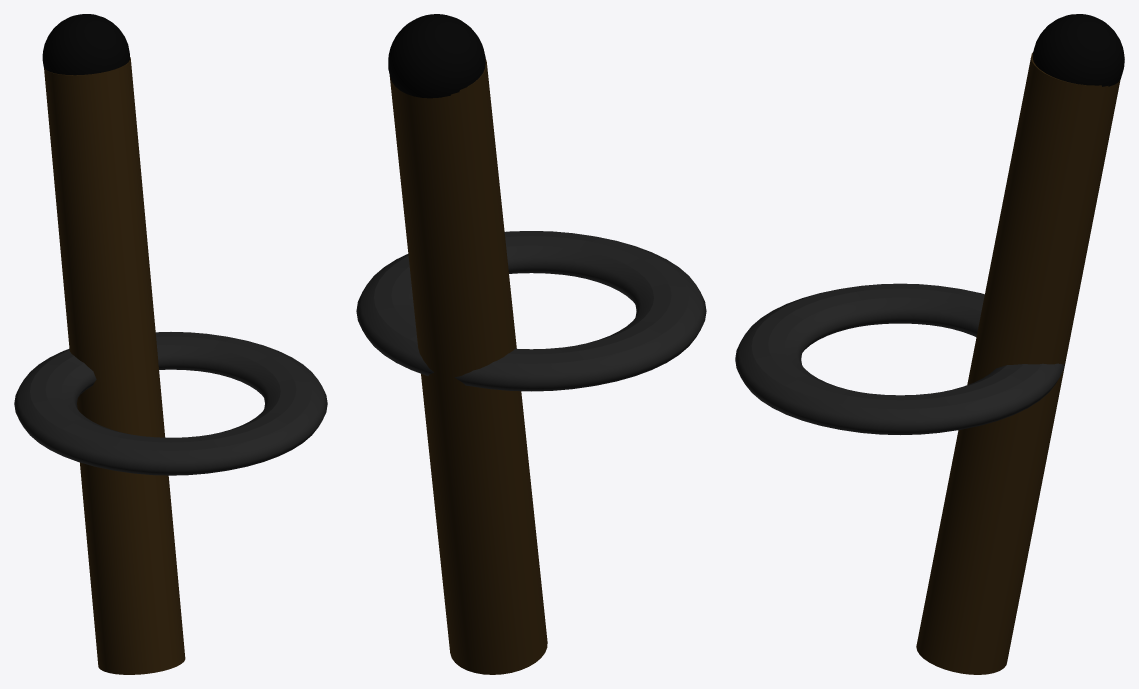
File: torch_wall.glb
3 renders of one model, left to right at view 1: azimuth 30°, elevation 25°; view 2: azimuth 150°, elevation 25°; view 3: azimuth 270°, elevation 25°, orthographic. The views are drawn at different scales.
Visible parts, largest first — view 1: Cylinder, Torus, Sphere; view 2: Cylinder, Torus, Sphere; view 3: Cylinder, Torus, Sphere.
Part boxes in pixels (bbox=[...]): Cylinder: bbox=[44, 57, 185, 674]; Torus: bbox=[14, 332, 327, 475]; Sphere: bbox=[42, 14, 129, 75]; Cylinder: bbox=[389, 59, 547, 674]; Torus: bbox=[356, 231, 706, 391]; Sphere: bbox=[388, 14, 485, 98]; Cylinder: bbox=[916, 52, 1120, 674]; Torus: bbox=[735, 283, 1064, 434]; Sphere: bbox=[1032, 14, 1124, 86].
Bounding box in the file's own units: 0.25 × 0.5373 × 0.295.
